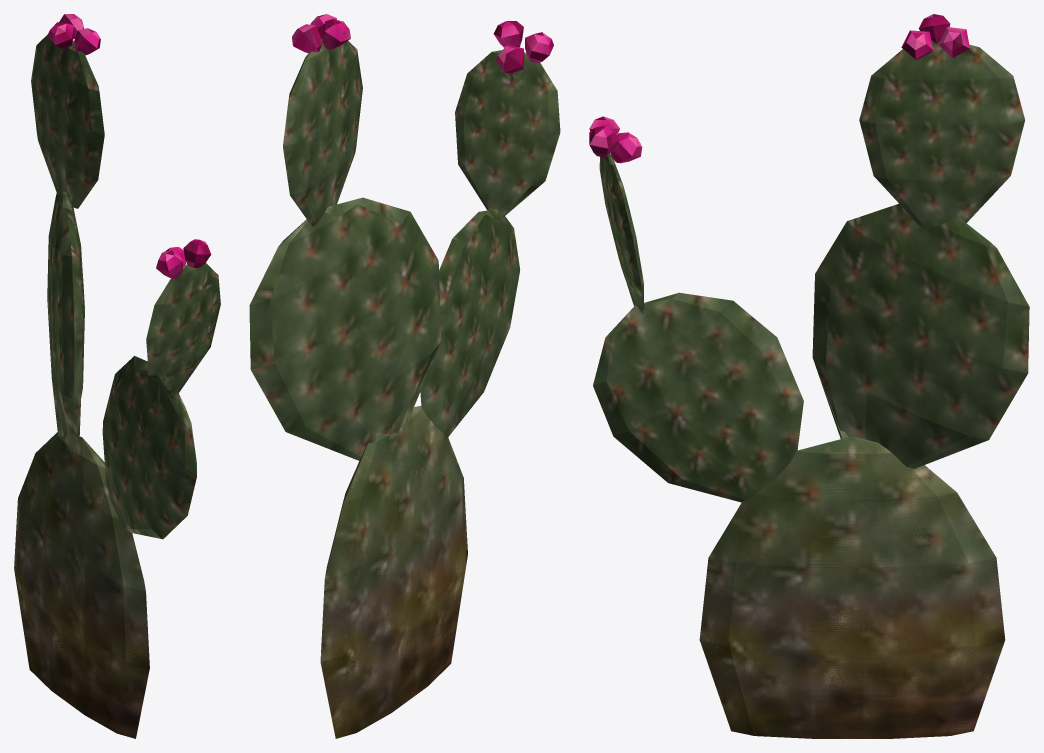
File: Opuntia_cactus.fbx
3 renders of one model, left to right at view 1: azimuth 30°, elevation 25°; view 2: azimuth 150°, elevation 25°; view 3: azimuth 270°, elevation 25°, orthographic. The views are drawn at different scales.
Visible parts, largest first — view 1: Opuntia_Cactus; view 2: Opuntia_Cactus; view 3: Opuntia_Cactus.
Part boxes in pixels (box(x1,y1,x2,y2)): Opuntia_Cactus: box(14, 14, 220, 738); Opuntia_Cactus: box(249, 14, 560, 738); Opuntia_Cactus: box(589, 14, 1029, 738).
Size of the model in its own units: 8.96 by 55.5 by 30.52.
